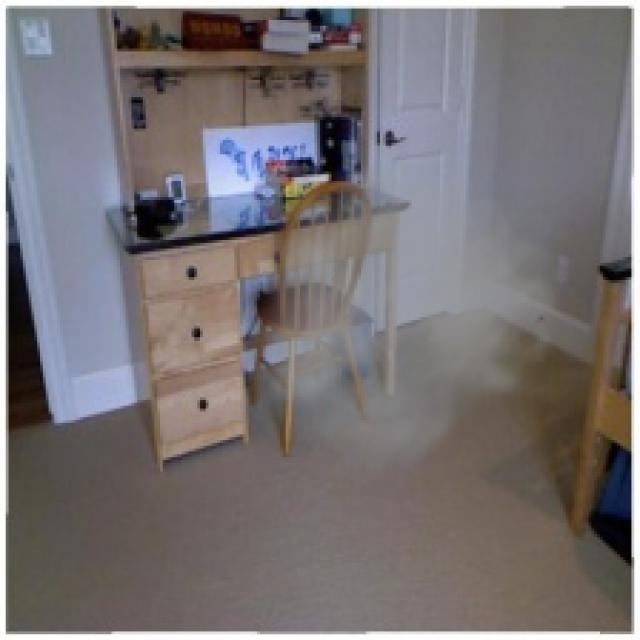smoke: (243, 126, 597, 491)
